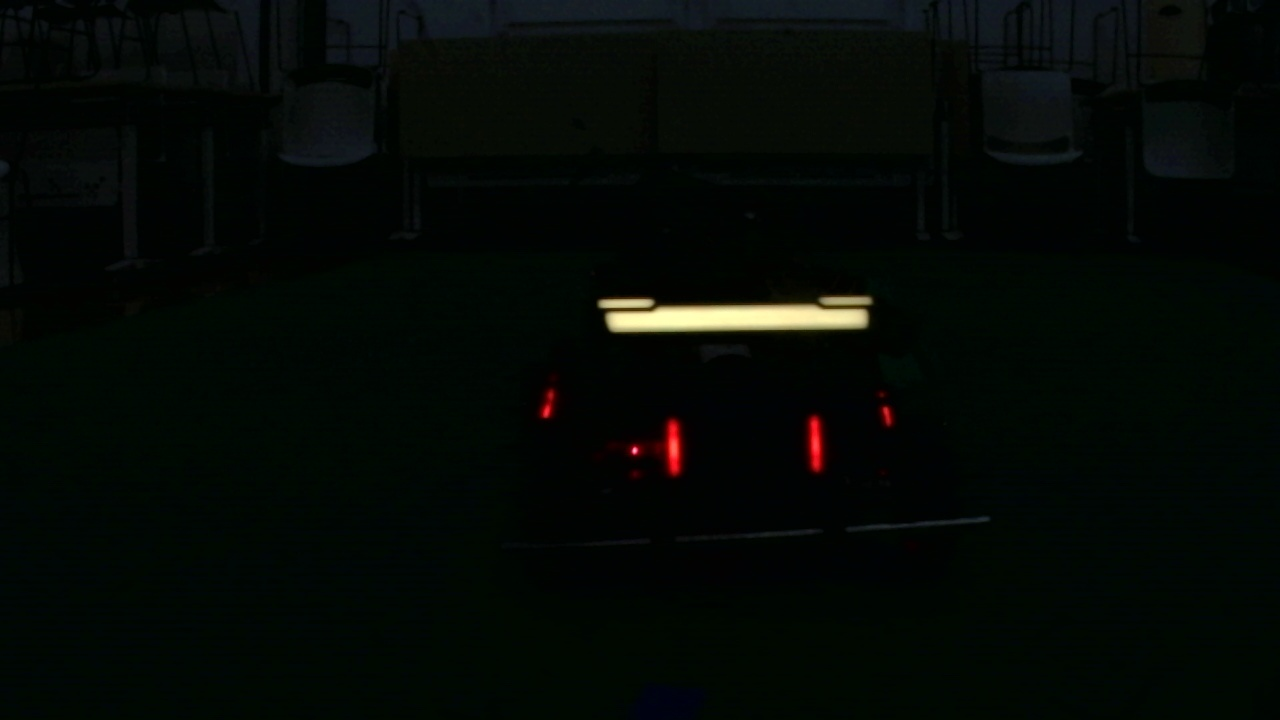lamp: (660, 413, 682, 475), (806, 414, 825, 477)
pair1: (664, 415, 827, 478)
